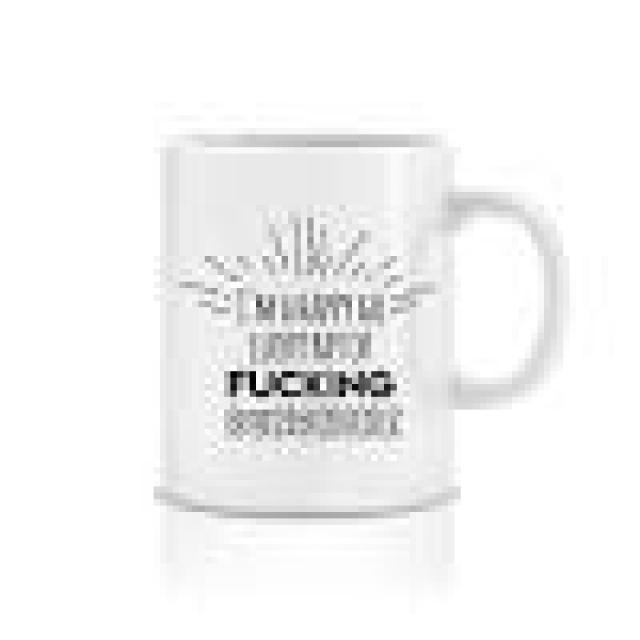taza: (146, 118, 579, 530)
